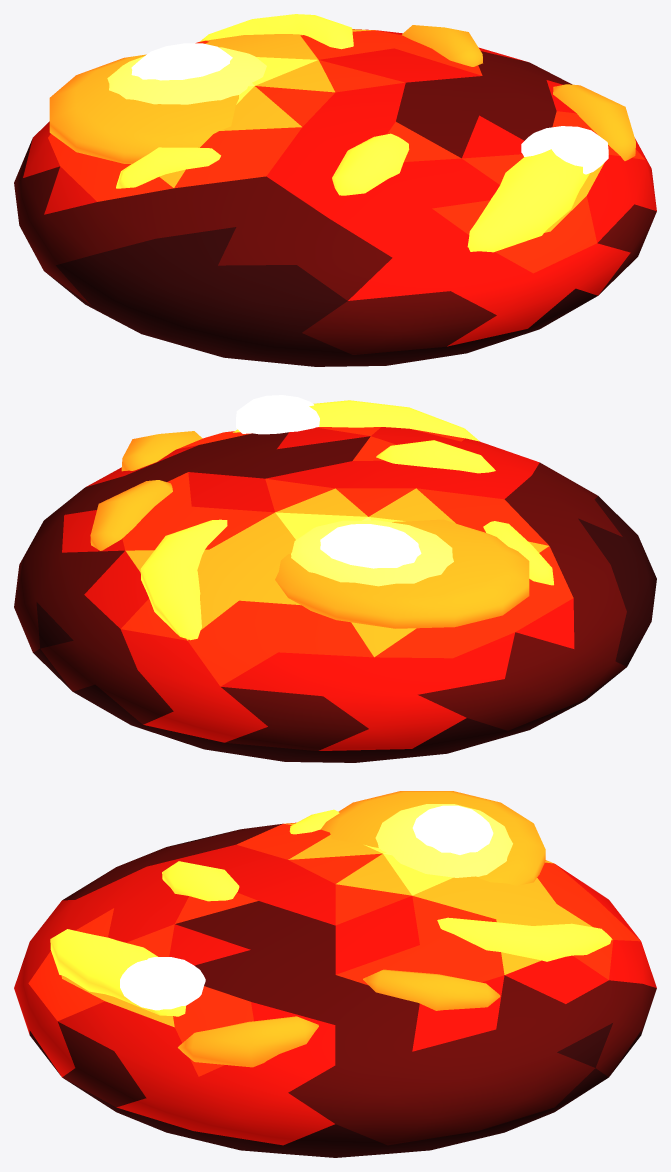
Rendered from newshp-85.glb.
3 views of the same model, one above another, from view 1: azimuth 30°, elevation 25°; view 2: azimuth 150°, elevation 25°; view 3: azimuth 270°, elevation 25° (orthographic).
Parts seen in each view (by area): view 1: newshp-85; view 2: newshp-85; view 3: newshp-85.
Part boxes in pixels (x1,y1,x2,y2): newshp-85: (14,14,656,366); newshp-85: (14,395,656,762); newshp-85: (14,791,656,1157).
Bounding box in the file's own units: 1.58 × 0.6238 × 1.58.
